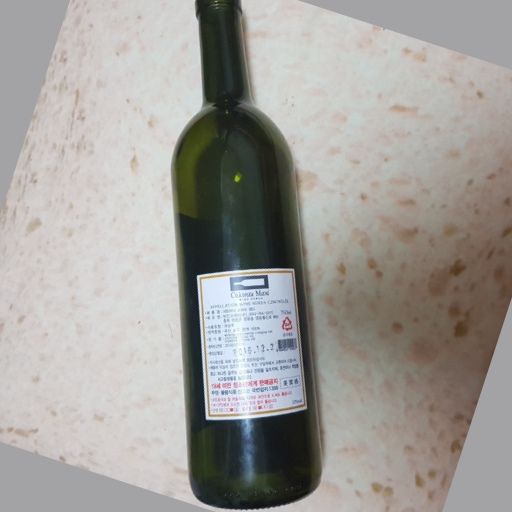Glass_2: (165, 1, 328, 512)
